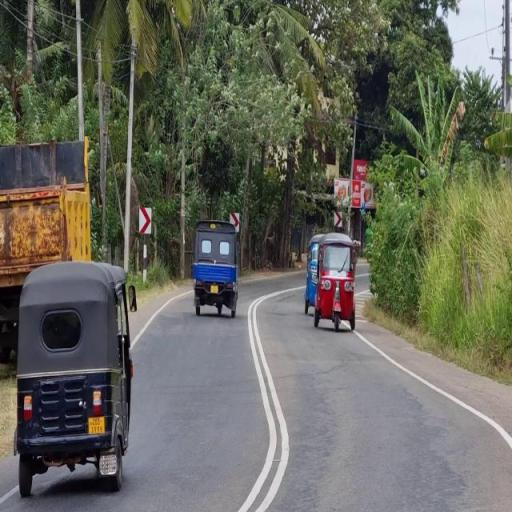double_white_line: (330, 326, 510, 450), (240, 290, 292, 510)
